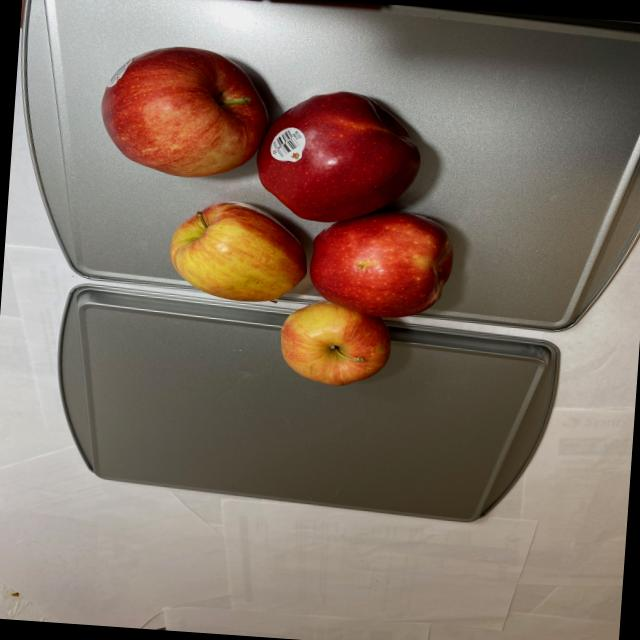apple: (83, 39, 469, 394)
